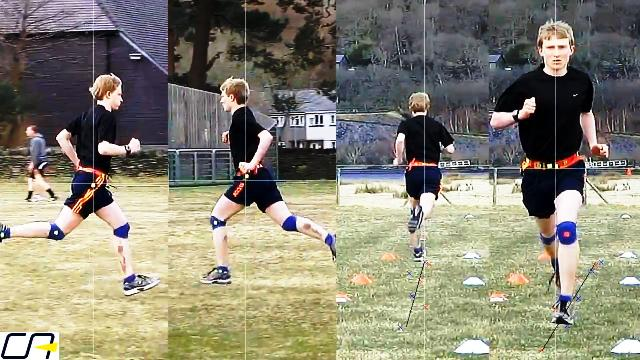berlari: (488, 21, 616, 329), (6, 70, 162, 305), (199, 72, 335, 292), (390, 84, 458, 272)
